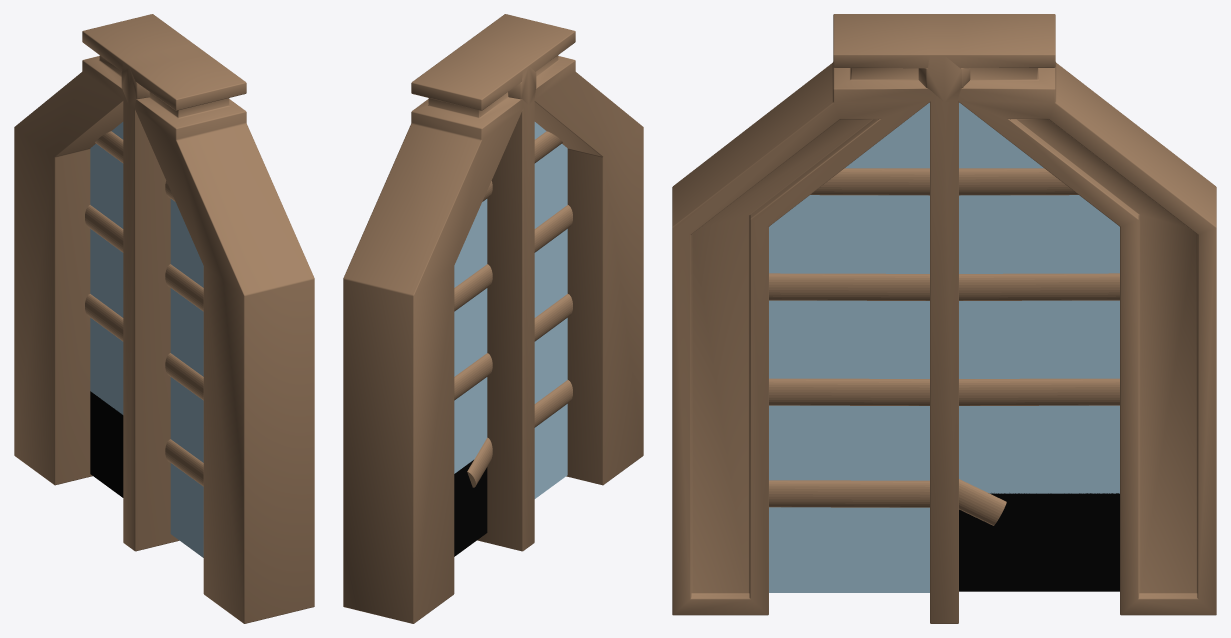
File: Window.fbx
3 renders of one model, left to right at view 1: azimuth 30°, elevation 25°; view 2: azimuth 150°, elevation 25°; view 3: azimuth 270°, elevation 25°, orthographic. The views are drawn at different scales.
Visible parts, largest first — view 1: Cube.001, Plane, Plane.001, Cube.003, Plane.002; view 2: Cube.001, Plane, Plane.001, Cube.003, Plane.002, Cube.004; view 3: Cube.001, Plane, Plane.001, Cube.003, Plane.002, Cube.004.
Boxes of the visible parts, x1=… form: Cube.001: x1=14, y1=14, x2=314, y2=623; Plane: x1=170, y1=199, x2=203, y2=557; Plane.001: x1=90, y1=122, x2=123, y2=414; Cube.003: x1=85, y1=131, x2=203, y2=486; Plane.002: x1=90, y1=391, x2=123, y2=497; Cube.001: x1=343, y1=14, x2=643, y2=623; Plane: x1=534, y1=122, x2=567, y2=498; Plane.001: x1=454, y1=199, x2=487, y2=473; Cube.003: x1=454, y1=131, x2=572, y2=427; Plane.002: x1=454, y1=460, x2=487, y2=556; Cube.004: x1=467, y1=437, x2=492, y2=487; Cube.001: x1=672, y1=14, x2=1216, y2=623; Plane: x1=769, y1=102, x2=929, y2=592; Plane.001: x1=959, y1=102, x2=1119, y2=493; Cube.003: x1=769, y1=168, x2=1119, y2=507; Plane.002: x1=959, y1=493, x2=1119, y2=591; Cube.004: x1=959, y1=479, x2=1006, y2=525.
Size of the model in its own units: 200 by 1300 by 1126.
